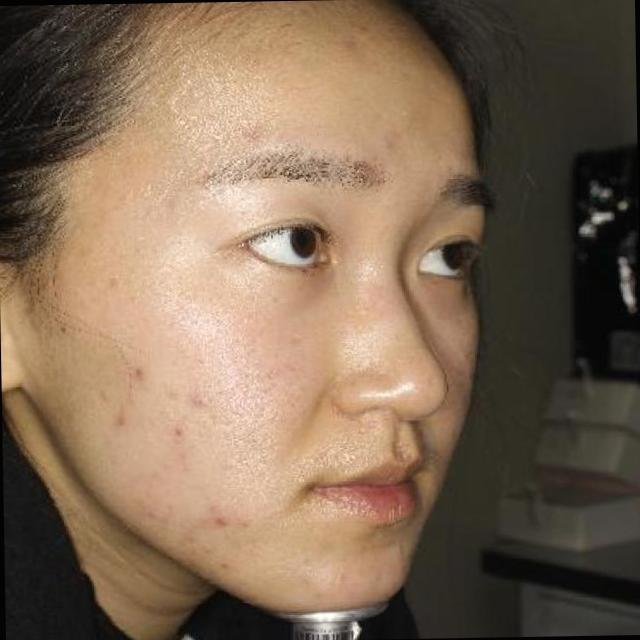darkspot: (130, 366, 151, 380), (112, 416, 132, 428)
nodules: (188, 390, 212, 411), (169, 422, 191, 442), (212, 510, 232, 530), (242, 292, 254, 304)
